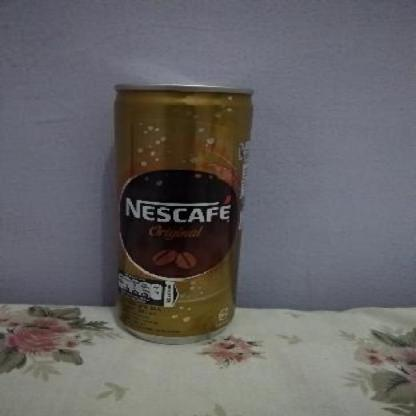alumunium_can: (110, 81, 258, 347)
